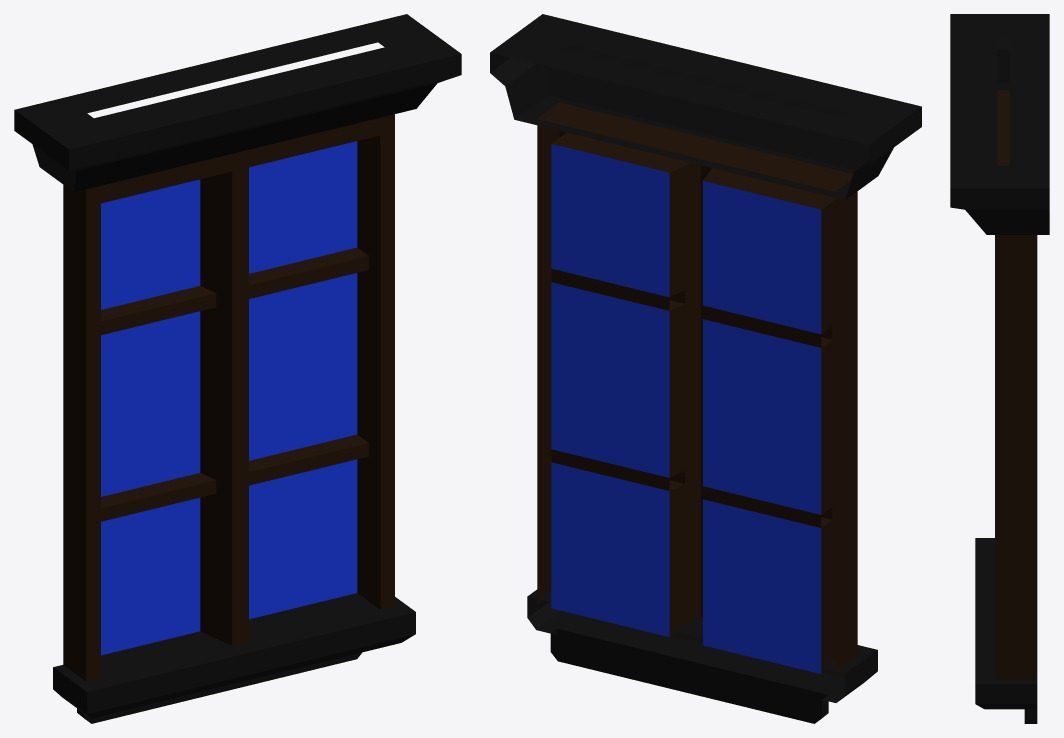
The model's file is Finestra2.FBX.
The picture shows the model from 3 angles, left to right: view 1: azimuth 30°, elevation 25°; view 2: azimuth 150°, elevation 25°; view 3: azimuth 270°, elevation 25°; orthographic projection. The views are drawn at different scales.
Visible parts, largest first — view 1: Finestra2; view 2: Finestra2; view 3: Finestra2.
Boxes of the visible parts, bbox=[...] form: Finestra2: bbox=[14, 14, 461, 723]; Finestra2: bbox=[490, 14, 921, 723]; Finestra2: bbox=[950, 14, 1049, 723].
Bounding box in the file's own units: 56.66 × 85.48 × 13.62.
